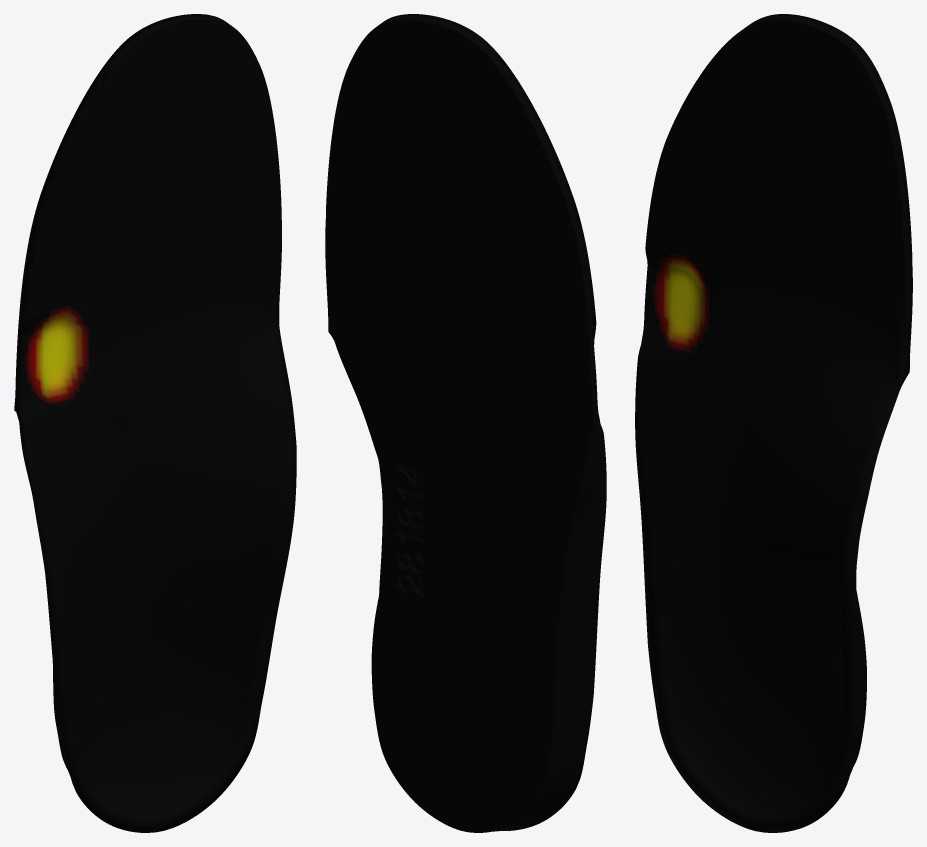
Rendered from PAIR-OFFLOAD-5TH_LEFT.glb.
3 views of the same model, side by side, from view 1: azimuth 30°, elevation 25°; view 2: azimuth 150°, elevation 25°; view 3: azimuth 330°, elevation 25° (orthographic). The views are drawn at different scales.
Visible parts, largest first — view 1: world; view 2: world; view 3: world.
Part boxes in pixels (x1,y1,x2,y2): world: (14,14,296,832); world: (325,14,606,832); world: (635,14,912,832).
Bounding box in the file's own units: 101 × 291 × 25.3.
